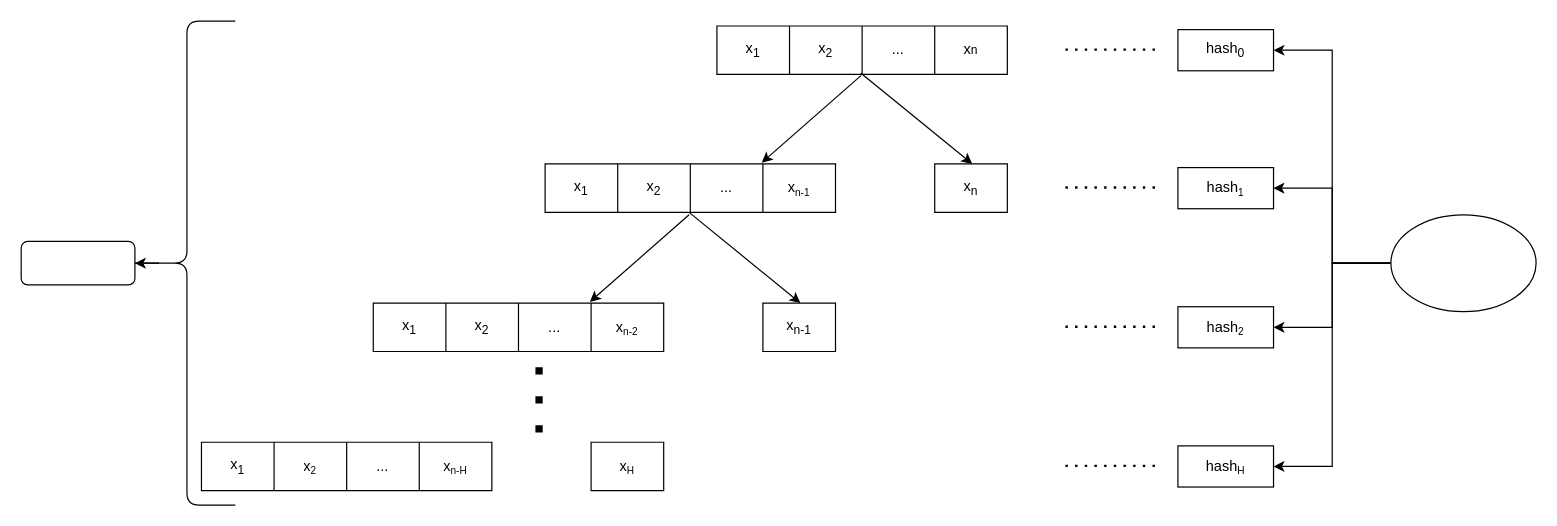
Some shapes in this 1557 by 526 pixel diagram are drawn without their labels. Each missing label, with the centre of its shape:
"LSH Family (p-stable)" belongs at [1463,263].
"Tree height limit" belongs at [77,262].
